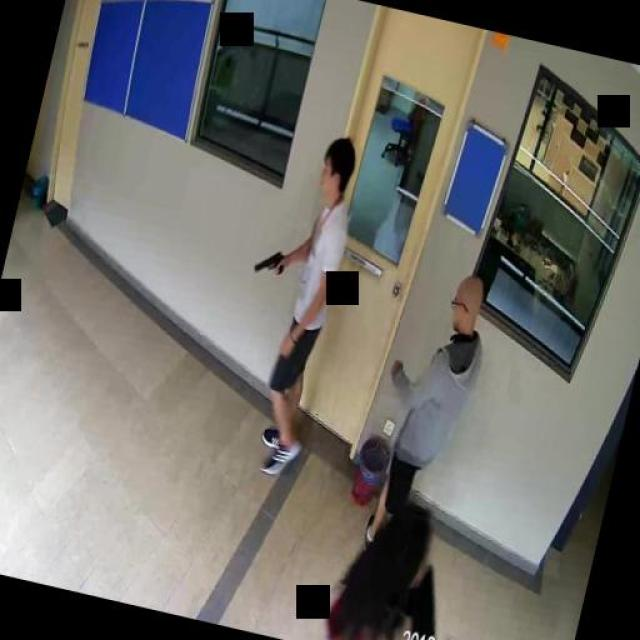gun: (252, 245, 288, 276)
